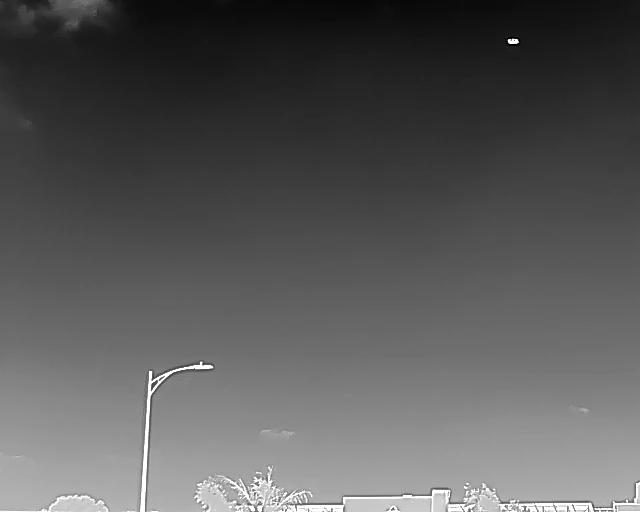fpv-drone: (507, 38, 518, 44)
